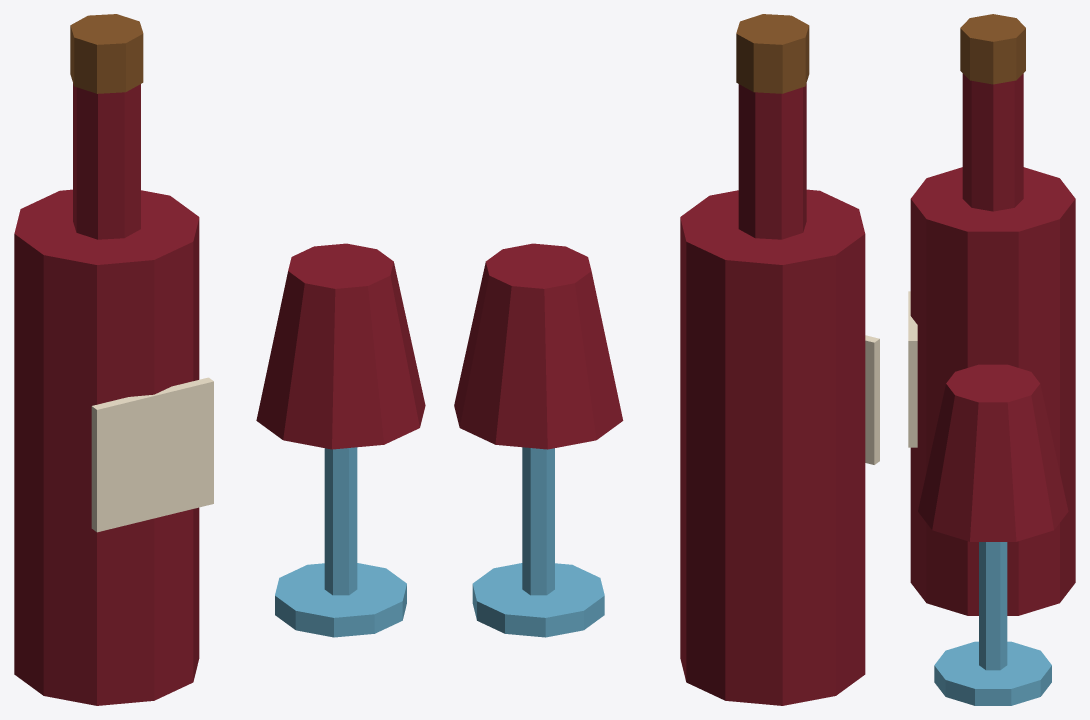
File: PR_Drink_YillanmisSarap.fbx
The picture shows the model from 3 angles, left to right: view 1: azimuth 30°, elevation 25°; view 2: azimuth 150°, elevation 25°; view 3: azimuth 270°, elevation 25°; orthographic projection. The views are drawn at different scales.
Visible parts, largest first — view 1: PR_Drink_YillanmisSarap; view 2: PR_Drink_YillanmisSarap; view 3: PR_Drink_YillanmisSarap.
Part boxes in pixels (x1=…): PR_Drink_YillanmisSarap: x1=14, y1=14, x2=425, y2=705; PR_Drink_YillanmisSarap: x1=454, y1=14, x2=879, y2=705; PR_Drink_YillanmisSarap: x1=908, y1=14, x2=1075, y2=705.
Size of the model in its own units: 0.1637 by 0.26 by 0.071.
1 material, 1 textured.
